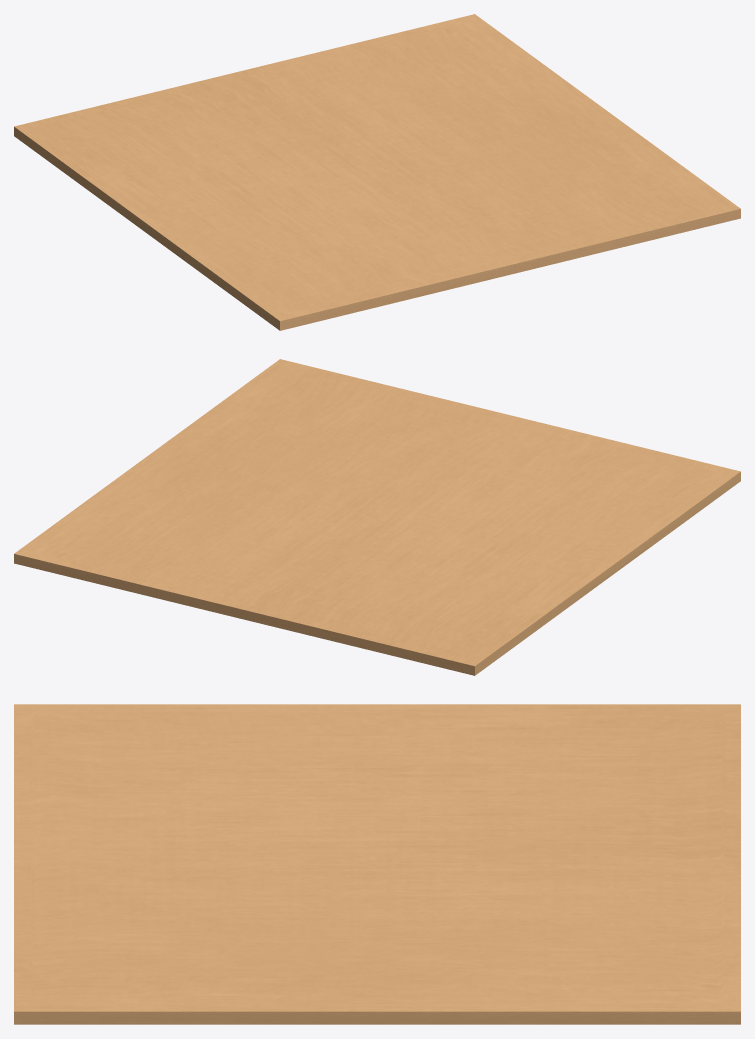
Rendered from PM_CopperSheet.fbx.
3 renders of one model, top to bottom at view 1: azimuth 30°, elevation 25°; view 2: azimuth 150°, elevation 25°; view 3: azimuth 270°, elevation 25°, orthographic. The views are drawn at different scales.
Parts seen in each view (by area): view 1: CopperSheet; view 2: CopperSheet; view 3: CopperSheet.
Boxes of the visible parts, x1=… form: CopperSheet: x1=14, y1=14, x2=740, y2=330; CopperSheet: x1=14, y1=359, x2=740, y2=675; CopperSheet: x1=14, y1=704, x2=740, y2=1024.
Bounding box in the file's own units: 0.8684 × 0.8684 × 0.0174.
